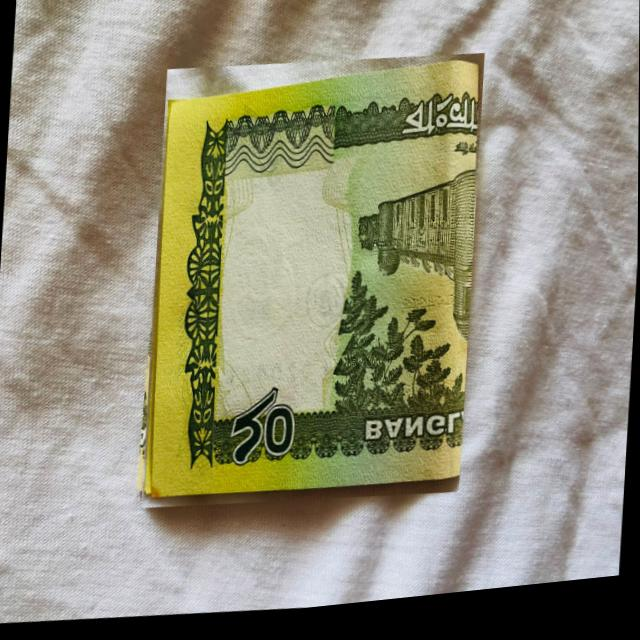Taka: (142, 47, 485, 528)
